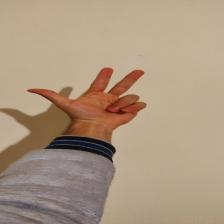three: (24, 67, 154, 125)
